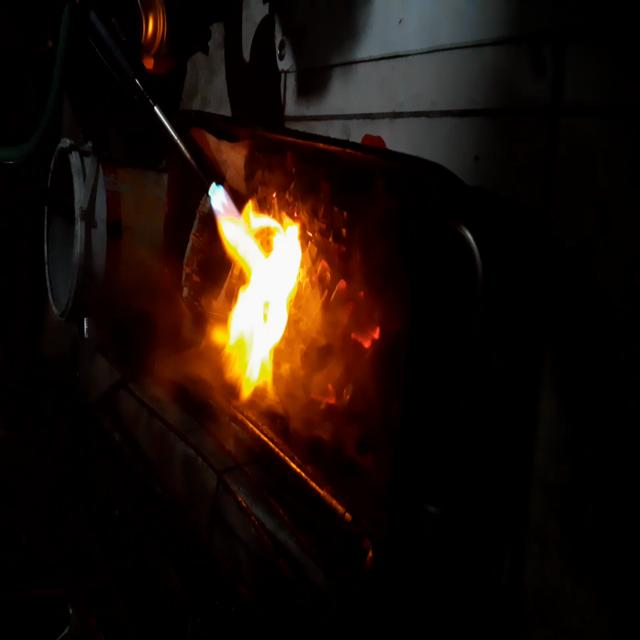Fire: (201, 161, 300, 430), (326, 246, 382, 392), (289, 290, 335, 424)
